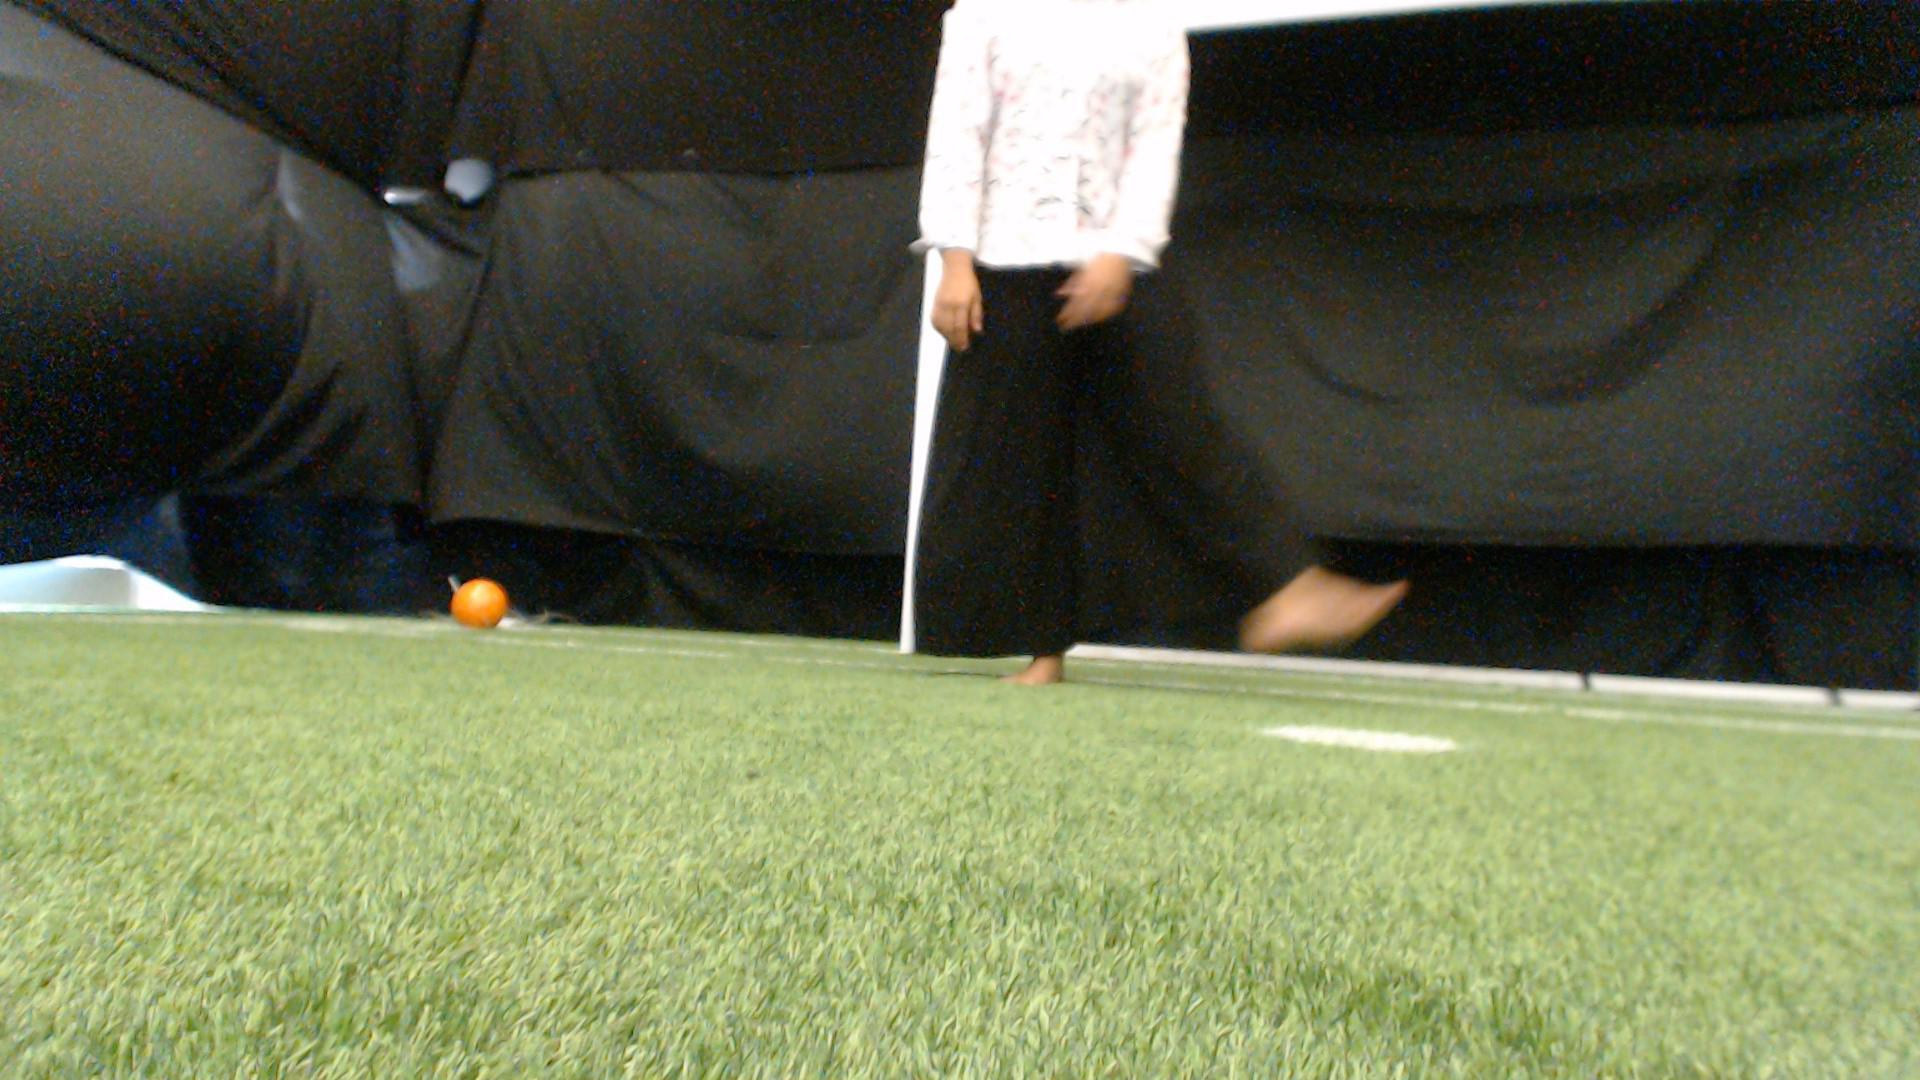bola: (429, 562, 521, 647)
